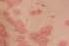plaque psoriasis: (7, 16, 50, 46), (28, 24, 51, 46), (0, 12, 12, 46), (0, 0, 24, 11), (29, 3, 46, 17), (58, 39, 69, 46), (63, 18, 69, 27)
